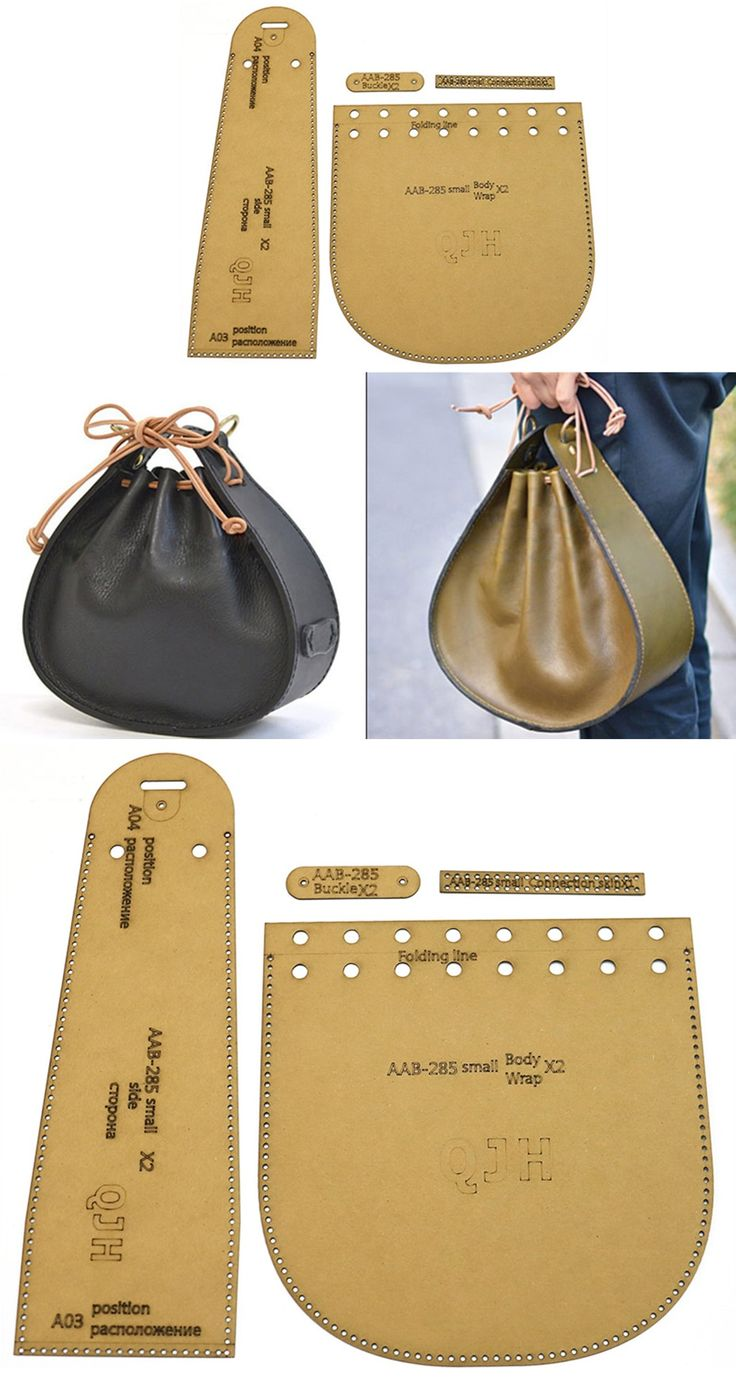cuero: (21, 377, 695, 737)
